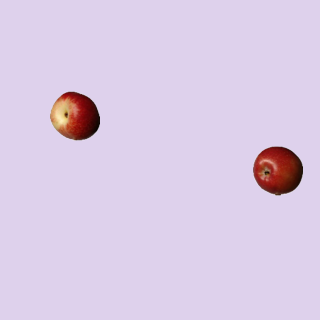Apple Braeburn: (252, 145, 302, 195)
Nectarine: (49, 90, 99, 140)
